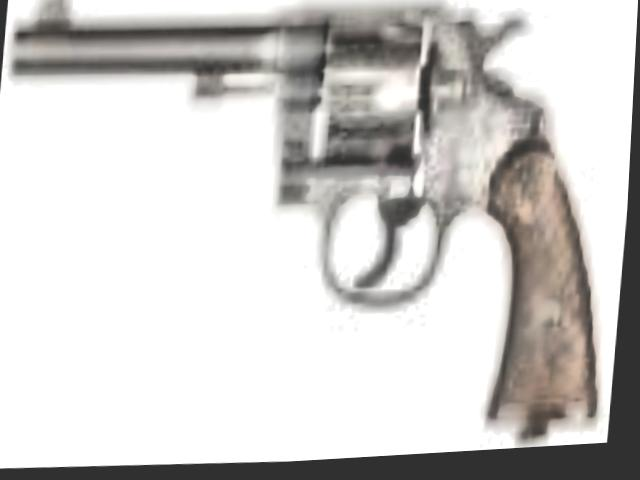pistol: (0, 0, 632, 458)
